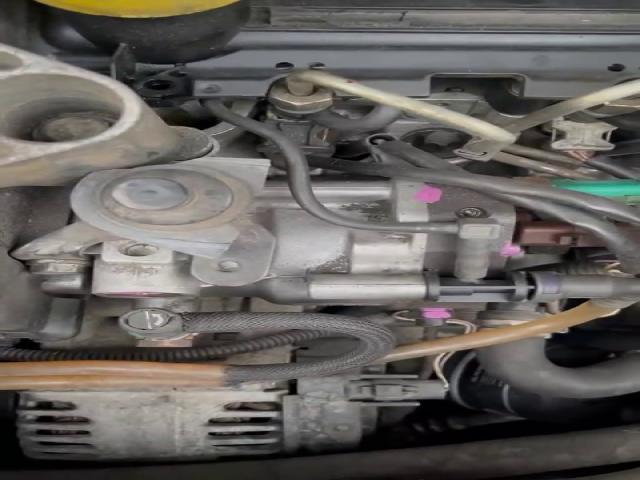alternator: (18, 382, 287, 460)
high_pressure_pump: (91, 158, 545, 324)
